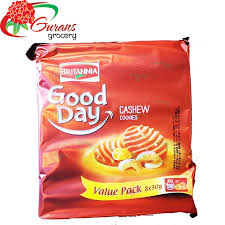gooday-large: (31, 44, 201, 215)
